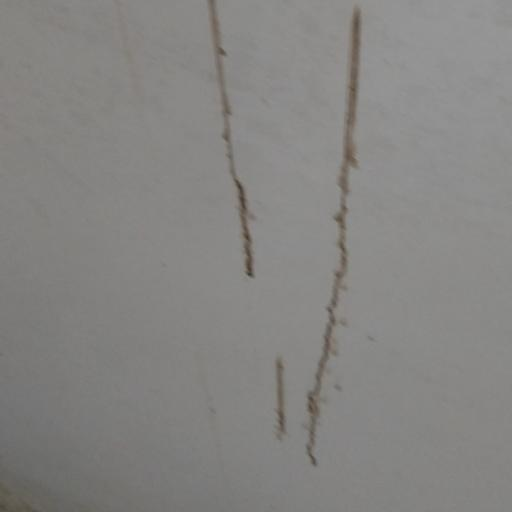stain: (193, 4, 403, 500)
